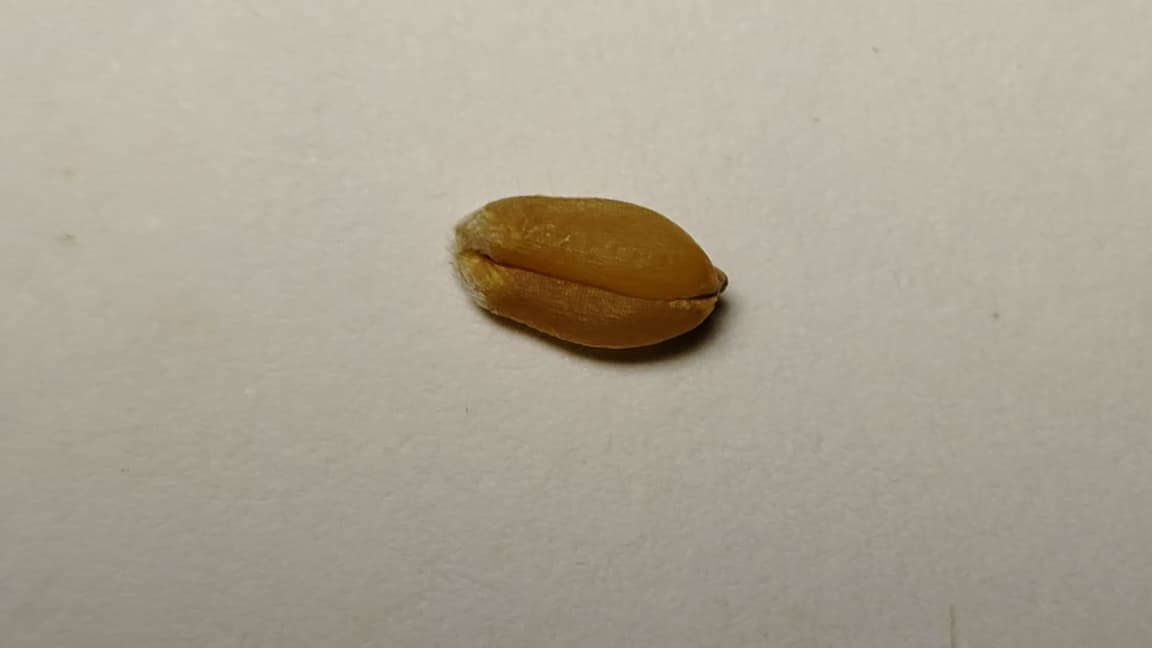healthy: (452, 196, 727, 346)
